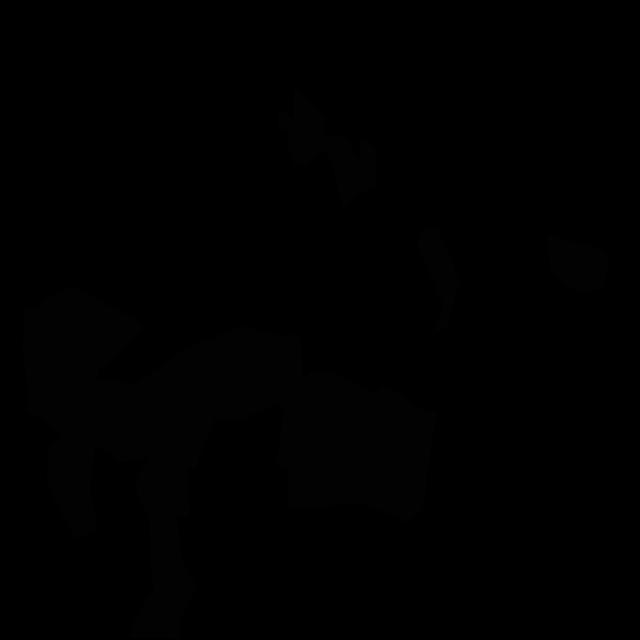cardboard: (22, 286, 304, 639), (276, 372, 437, 524), (278, 109, 349, 209), (416, 228, 460, 336), (547, 234, 608, 292), (333, 135, 377, 202), (292, 87, 325, 134)
